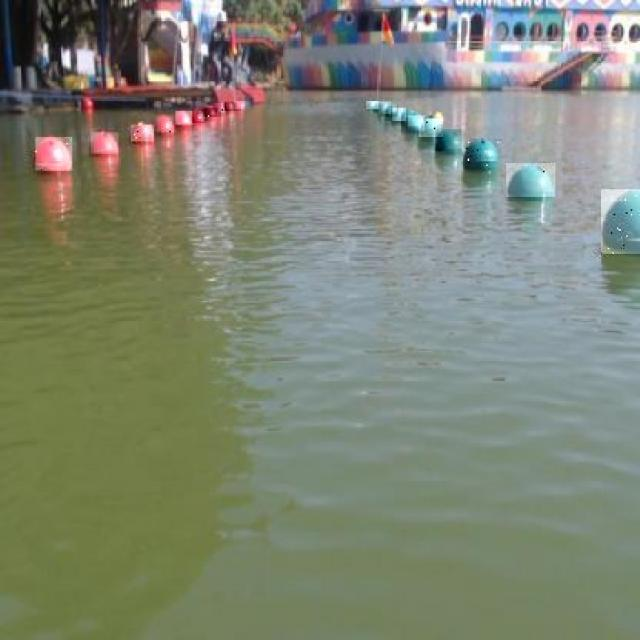green_ball: (600, 190, 640, 252), (506, 164, 553, 198), (464, 139, 496, 171), (436, 129, 460, 154), (402, 108, 421, 131), (420, 118, 440, 139), (406, 116, 425, 132), (384, 104, 398, 117), (392, 108, 407, 120), (376, 102, 392, 113), (366, 100, 379, 110)
red_ball: (34, 138, 71, 169), (92, 131, 118, 155), (132, 123, 154, 143), (156, 116, 174, 136), (175, 109, 193, 127), (193, 111, 205, 124), (202, 108, 212, 121), (212, 103, 222, 113), (208, 106, 216, 117), (226, 102, 237, 110)
